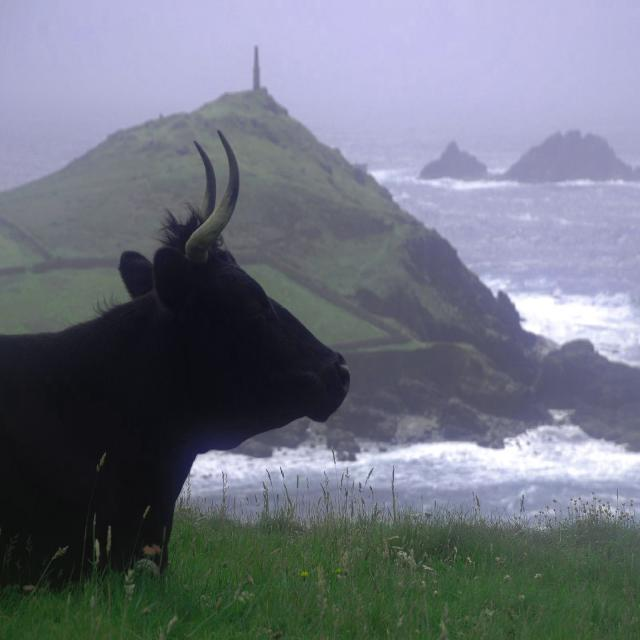cow: (0, 130, 350, 575)
